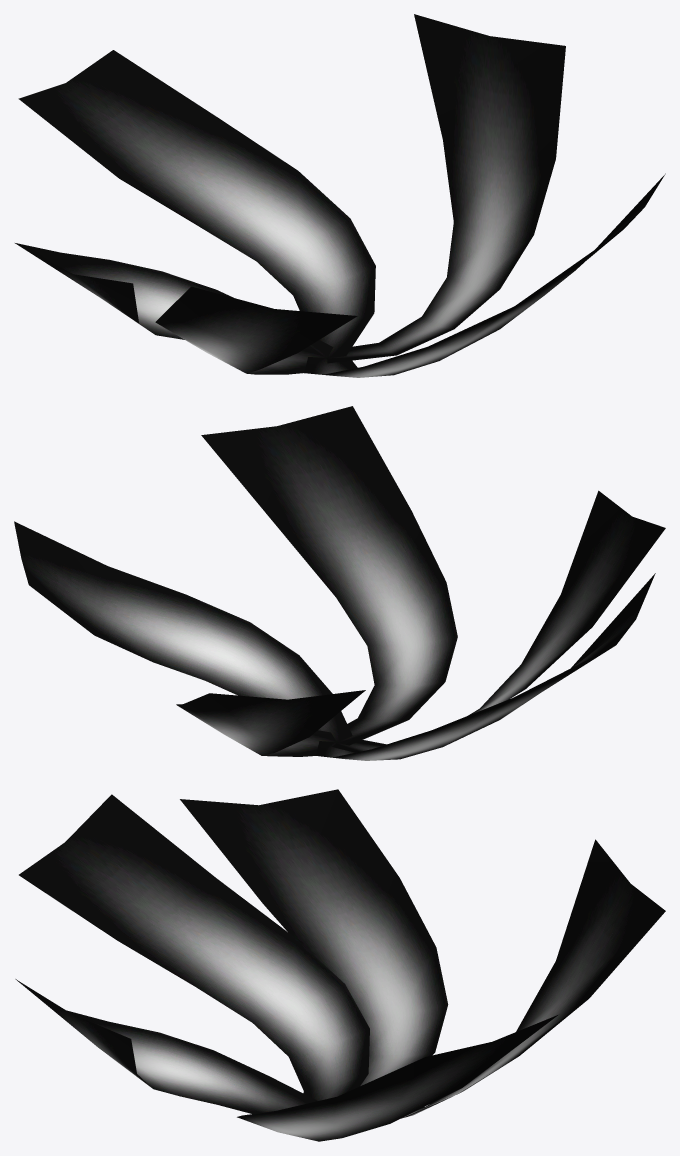
Rendered from vfx_kurp_0442.dae.
3 views of the same model, one above another, from view 1: azimuth 30°, elevation 25°; view 2: azimuth 150°, elevation 25°; view 3: azimuth 270°, elevation 25° (orthographic). The views are drawn at different scales.
Visible parts, largest first — view 1: vfx_kurp_0442; view 2: vfx_kurp_0442; view 3: vfx_kurp_0442.
Part boxes in pixels (x1,y1,x2,y2): vfx_kurp_0442: (15,14,665,377); vfx_kurp_0442: (14,406,665,760); vfx_kurp_0442: (15,789,665,1141).
Bounding box in the file's own units: 11.24 × 10.81 × 3.83.
Materials: 1 (1 with a texture image).
